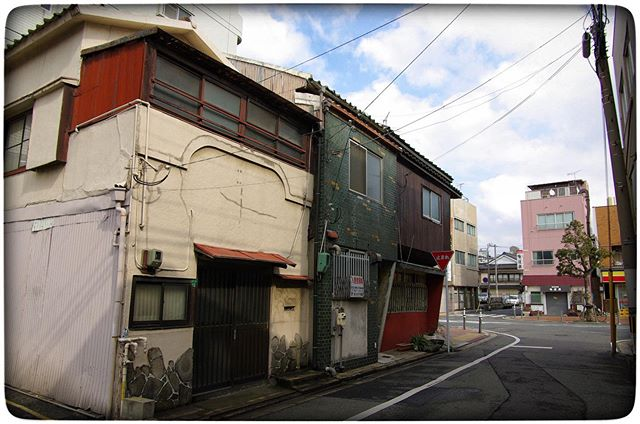building: (1, 27, 310, 414), (314, 97, 448, 372), (515, 175, 597, 320), (446, 193, 479, 327)
sky: (224, 1, 597, 173)
street: (228, 318, 629, 424)
tree: (544, 216, 604, 307)
